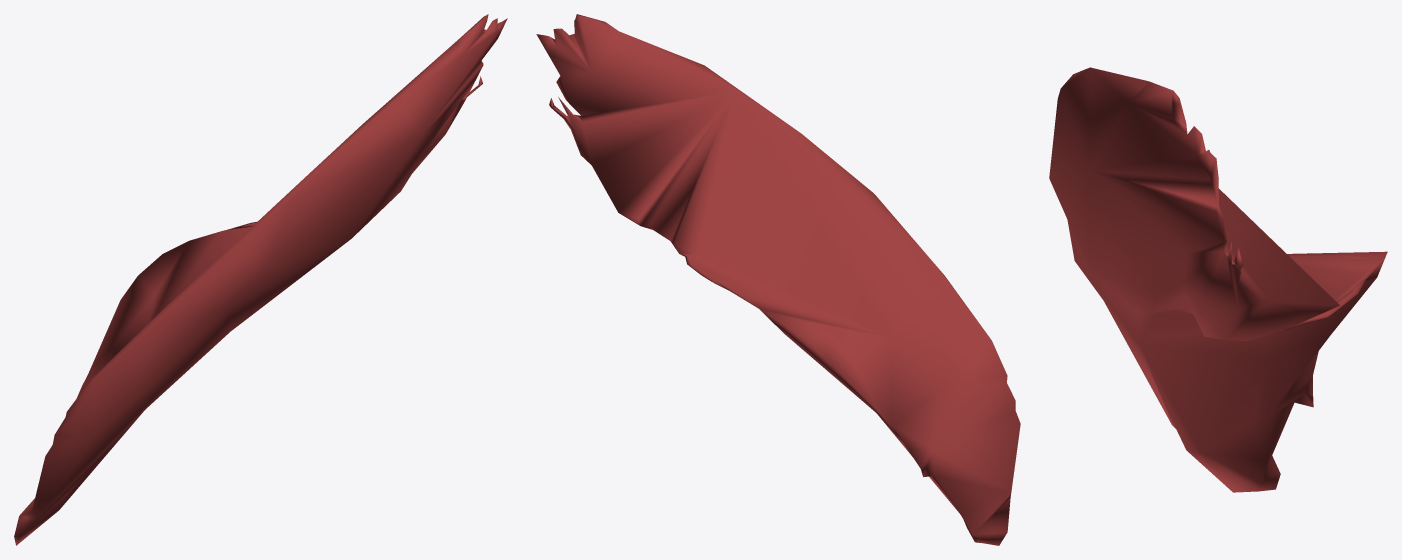
Rendered from corrugator-supercilii-l.glb.
3 renders of one model, left to right at view 1: azimuth 30°, elevation 25°; view 2: azimuth 150°, elevation 25°; view 3: azimuth 270°, elevation 25°, orthographic. The views are drawn at different scales.
Parts seen in each view (by area): view 1: Corrugator supercilii.l; view 2: Corrugator supercilii.l; view 3: Corrugator supercilii.l.
Boxes of the visible parts, x1,y1,x2,y2 form: Corrugator supercilii.l: [14, 14, 507, 545]; Corrugator supercilii.l: [536, 14, 1020, 545]; Corrugator supercilii.l: [1049, 67, 1387, 492].
Bounding box in the file's own units: 0.0227 × 0.019 × 0.00703.
